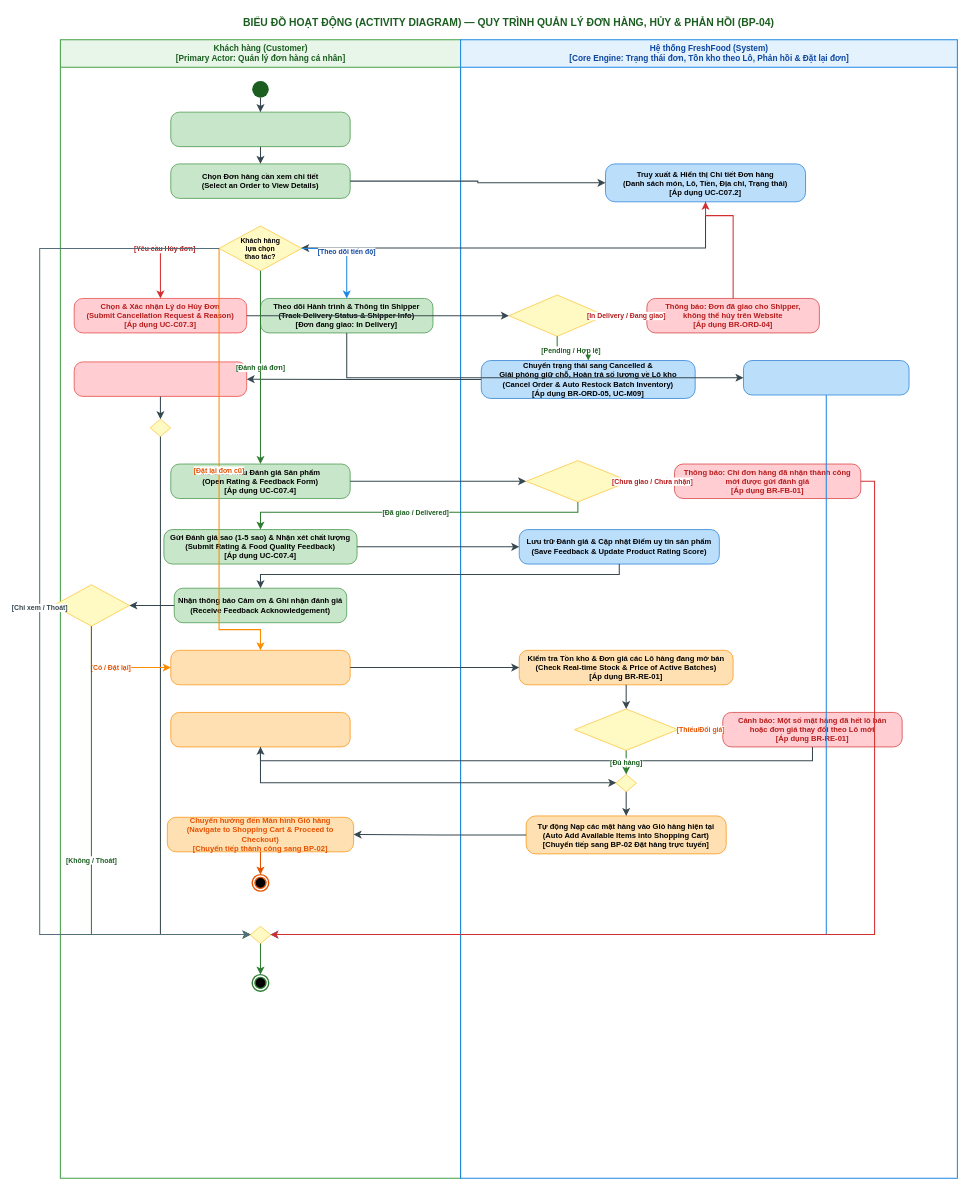
The diagram is 970 pixels wide and 1190 high, and some of its shapes have lost their labels. Here are the shapes that lost their labels. From the top down, the centre of each, then its label:
At pixel 260 129: "Truy cập Danh sách Đơn hàng đã đặt (View Placed Orders List) [Áp dụng UC-C07.1]".
At pixel 556 315: "Đơn ở trạng thái Pending / Processing? [Áp dụng BR-ORD-04]".
At pixel 160 378: "Nhận thông báo Hủy đơn thành công & Cập nhật lại trạng thái Đơn hàng".
At pixel 826 377: "Hiển thị Tiến độ Vận chuyển & Số điện thoại liên hệ Shipper".
At pixel 577 481: "Đơn đã giao thành công (Delivered)? [Áp dụng BR-FB-01]".
At pixel 91 605: "Tiếp tục đặt lại đơn hàng cũ?".
At pixel 260 667: "Yêu cầu Đặt lại Đơn hàng cũ (Request Re-order Past Items) [Áp dụng UC-C07.5]".
At pixel 260 729: "Xác nhận chỉ nạp các món còn hàng vào Giỏ (Confirm Adding Available Items)".
At pixel 626 729: "Còn đủ hàng trong các lô bán? [Áp dụng BR-RE-01]".
